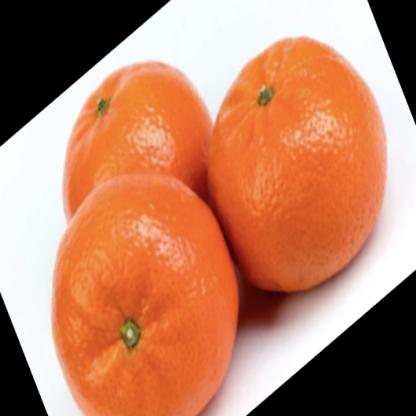fresh: (51, 33, 389, 416)
